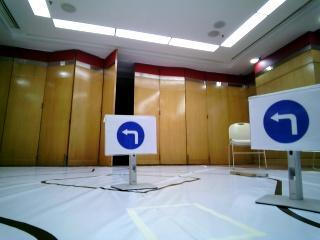left: (255, 99, 320, 148), (109, 117, 152, 149)
